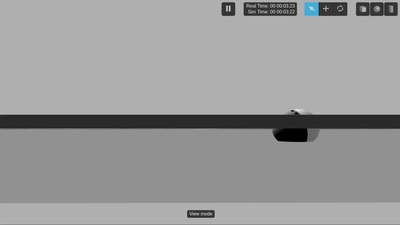mira_robot: (273, 108, 320, 143)
